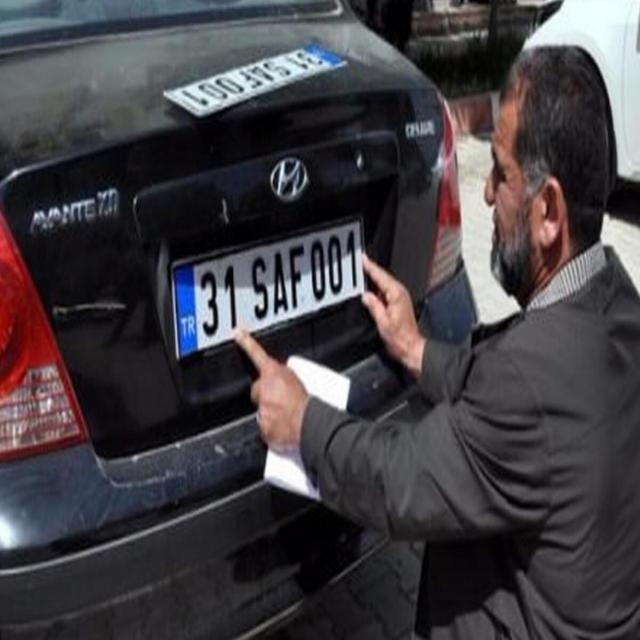plate: (169, 217, 370, 370)
